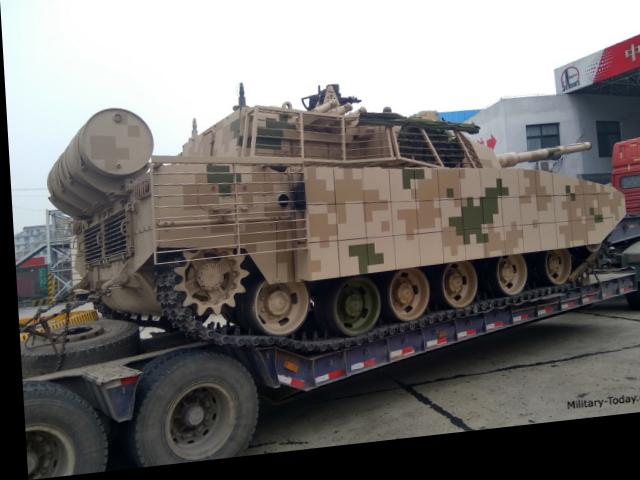tank: (54, 58, 617, 347)
